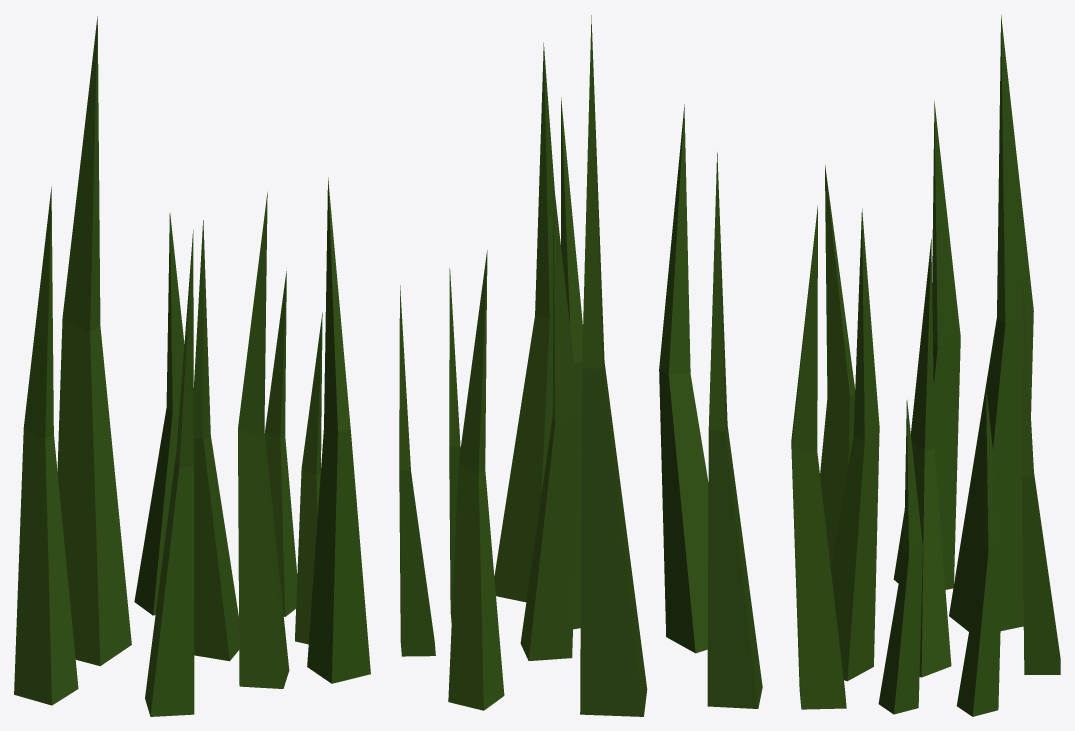
The model's file is Grass.glb.
3 renders of one model, left to right at view 1: azimuth 30°, elevation 25°; view 2: azimuth 150°, elevation 25°; view 3: azimuth 270°, elevation 25°, orthographic. The views are drawn at different scales.
Visible parts, largest first — view 1: Grass; view 2: Grass; view 3: Grass.
Part boxes in pixels (x1,y1,x2,y2): Grass: (14, 16, 370, 716); Grass: (399, 15, 762, 716); Grass: (791, 15, 1060, 716).
Size of the model in its own units: 0.378 by 0.7423 by 0.2953.
